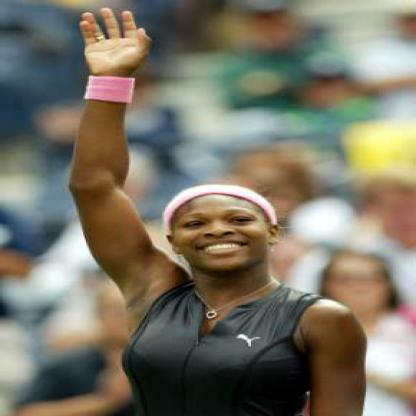face: (169, 186, 273, 273), (328, 254, 393, 309)
